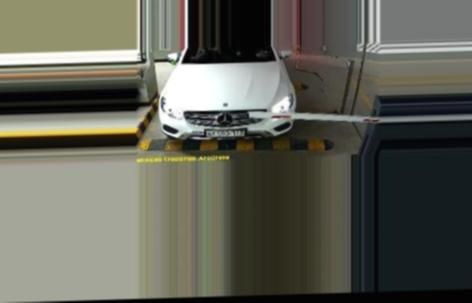License_Plate: (202, 126, 246, 141)
